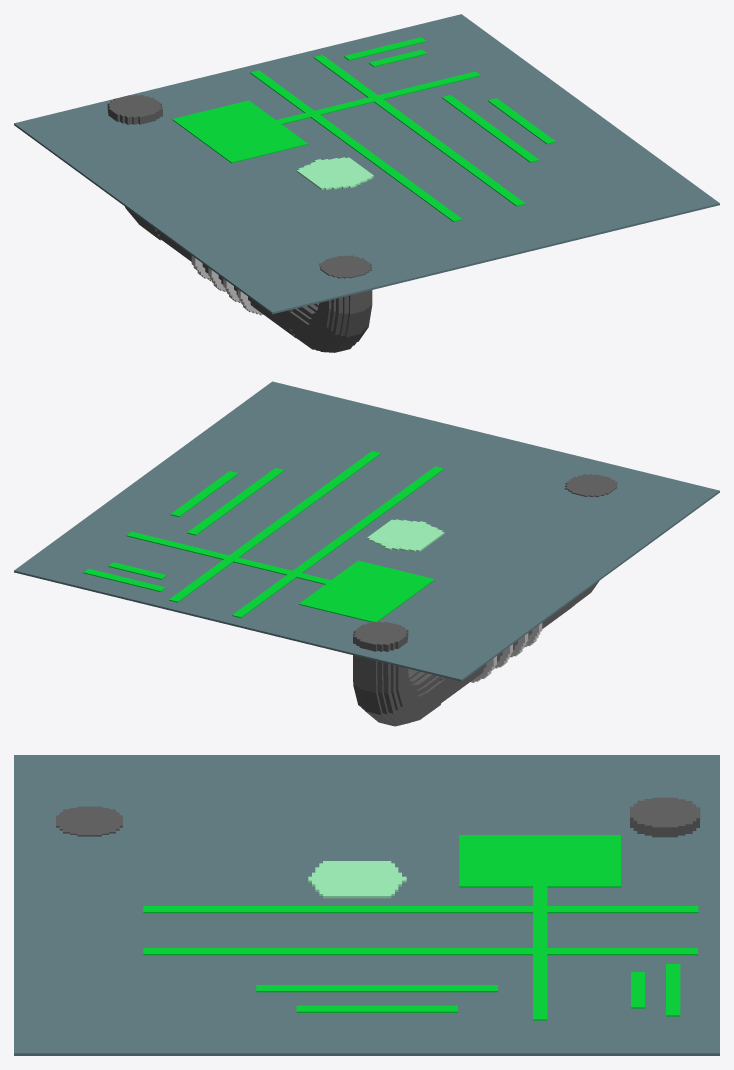
File: Pipestest3.fbx
The picture shows the model from 3 angles, top to bottom: view 1: azimuth 30°, elevation 25°; view 2: azimuth 150°, elevation 25°; view 3: azimuth 270°, elevation 25°; orthographic projection. The views are drawn at different scales.
Parts seen in each view (by area): view 1: Ceiling, Turn Pipe.001, Cube.012, Turn Pipe, Cube.004, Cube.011, Cube.014, Cube.013, Cube.009, Cube.018, Cube.010, NewPipe (+1 smaller); view 2: Ceiling, Turn Pipe, Cube.012, Cube.004, Cube.011, Cube.014, Cube.013, Turn Pipe.001, Cube.010, Cube.018, Cube.009, NewPipe (+1 smaller); view 3: Ceiling, Cube.012, Cube.004, Turn Pipe, Cube.013, Cube.014, Cube.011, Cube.010, Cube.009, Cube.018, Turn Pipe.001, Cube.017 (+2 smaller).
Part boxes in pixels (x1,y1,x2,y2): Ceiling: [14, 14, 719, 314]; Turn Pipe.001: [282, 255, 372, 352]; Cube.012: [172, 100, 308, 163]; Turn Pipe: [107, 94, 162, 240]; Cube.004: [296, 157, 373, 189]; Cube.011: [271, 71, 480, 124]; Cube.014: [313, 55, 440, 143]; Cube.013: [250, 70, 376, 158]; Cube.009: [335, 135, 462, 221]; Cube.018: [442, 95, 539, 162]; Cube.010: [431, 141, 525, 206]; NewPipe: [154, 230, 295, 337]; Ceiling: [14, 381, 719, 681]; Turn Pipe: [353, 621, 445, 726]; Cube.012: [299, 560, 434, 622]; Cube.004: [367, 519, 444, 551]; Cube.011: [126, 531, 335, 584]; Cube.014: [169, 513, 295, 602]; Cube.013: [232, 528, 359, 617]; Turn Pipe.001: [564, 474, 617, 607]; Cube.010: [263, 451, 380, 539]; Cube.018: [187, 468, 284, 535]; Cube.009: [350, 466, 444, 531]; NewPipe: [438, 598, 577, 704]; Ceiling: [14, 755, 719, 1055]; Cube.012: [459, 835, 620, 887]; Cube.004: [323, 861, 391, 898]; Turn Pipe: [630, 797, 700, 837]; Cube.013: [375, 906, 698, 913]; Cube.014: [375, 948, 697, 955]; Cube.011: [533, 883, 547, 1020]; Cube.010: [143, 948, 465, 955]; Cube.009: [143, 906, 465, 913]; Cube.018: [256, 985, 497, 992]; Turn Pipe.001: [56, 806, 122, 836]; Cube.017: [296, 1005, 457, 1012].
Size of the model in its own units: 10000 by 2349 by 10000.
